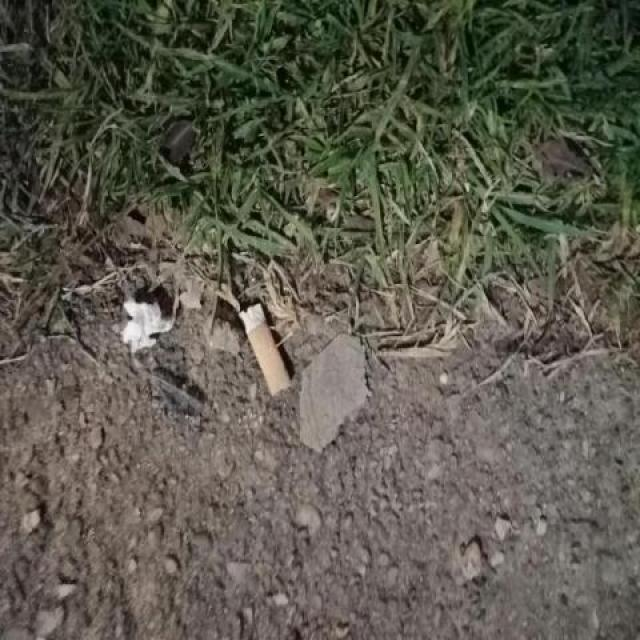non-organic waste: (235, 295, 296, 402)
